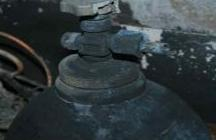cylinder: (1, 1, 216, 140)
